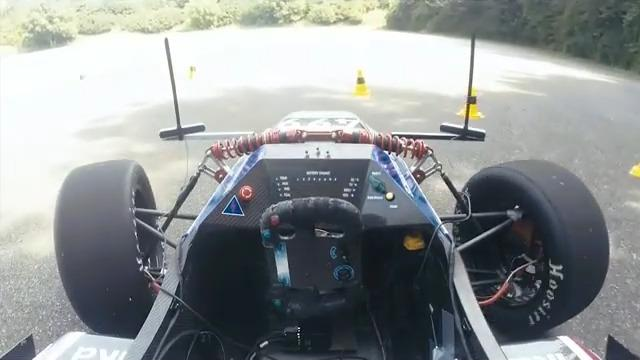yellow_cone: (458, 88, 485, 122), (352, 68, 372, 98)
